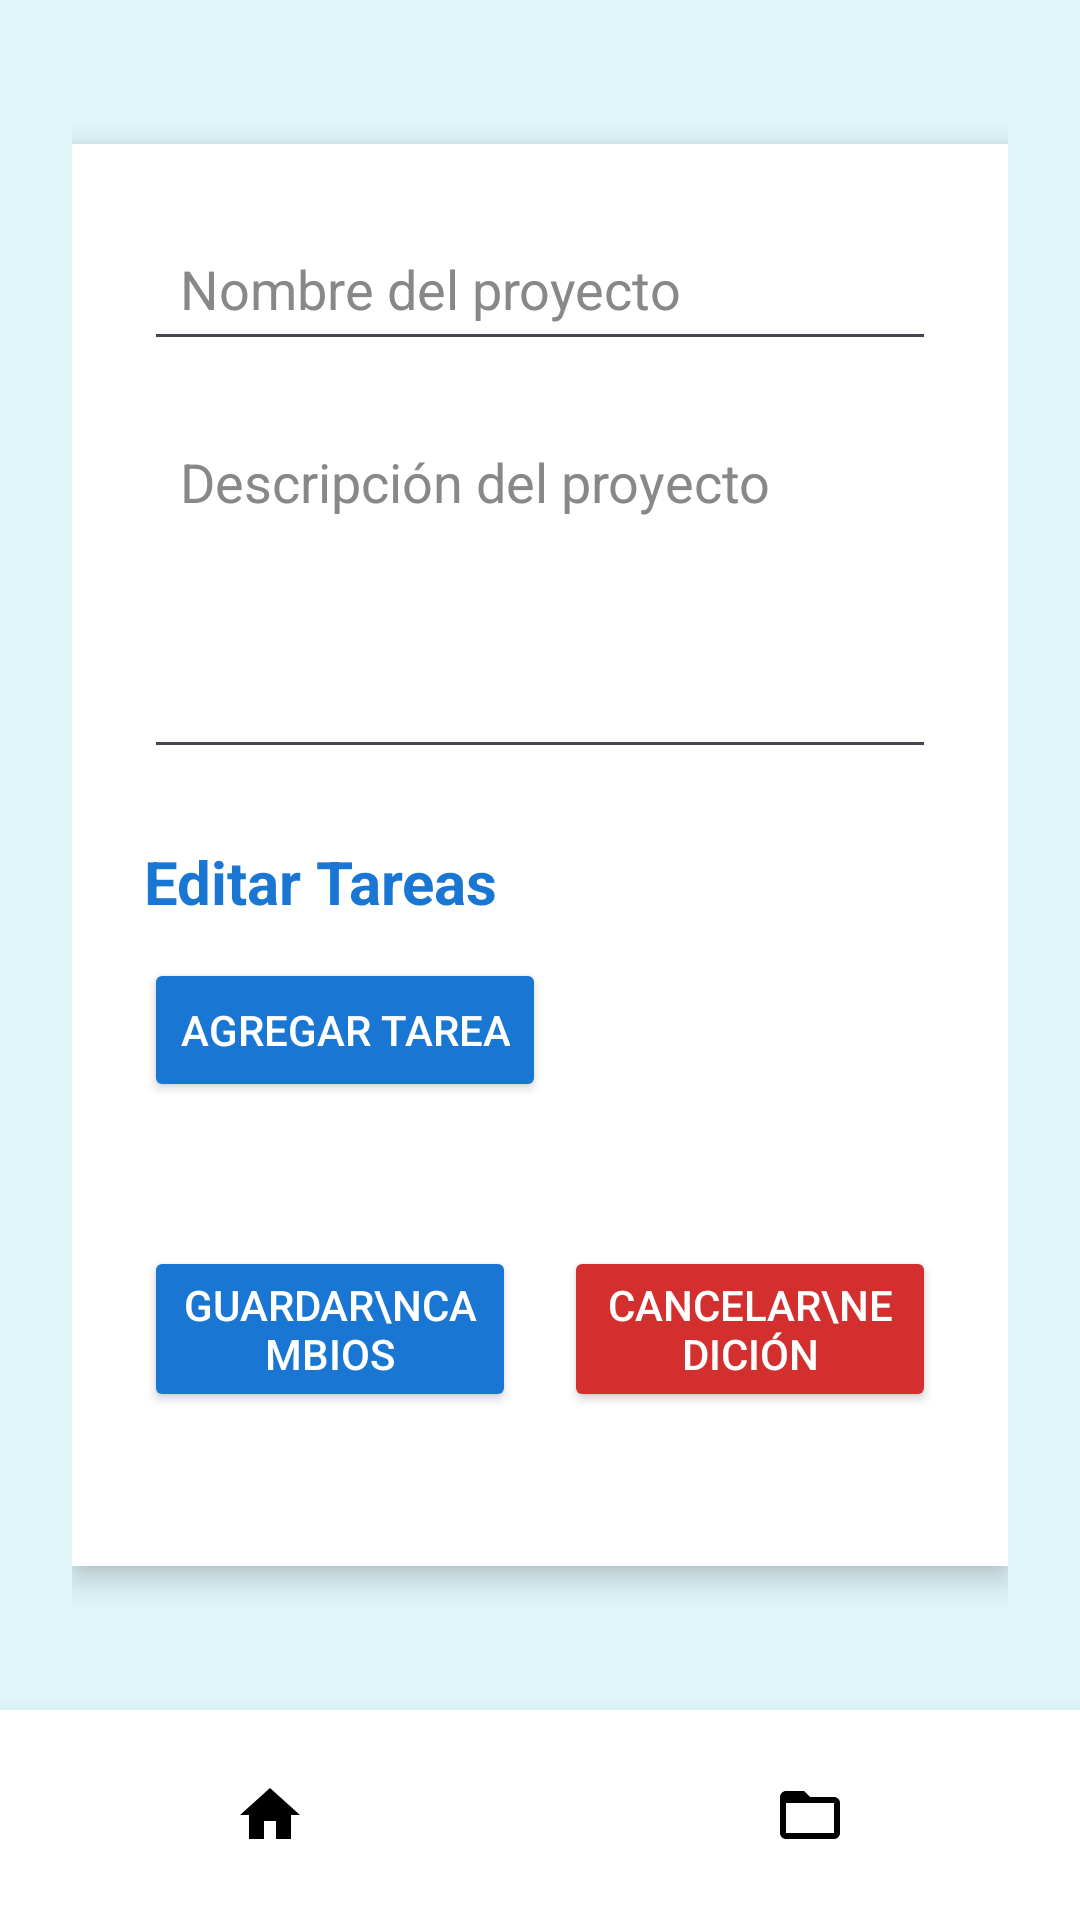

Icons on this 1080 × 1920 Android screen, each with the point to tap as point (x, y):
Inicio: point (270, 1813)
Proyectos: point (810, 1815)
